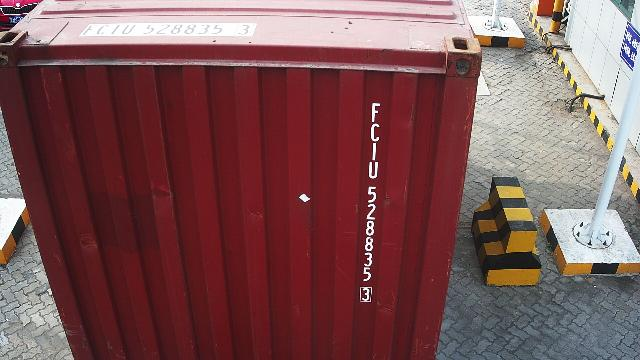2: (366, 204, 376, 221)
3: (360, 287, 372, 301), (363, 252, 372, 266)
5: (367, 185, 377, 202), (362, 267, 372, 281)
8: (364, 236, 374, 252), (366, 220, 374, 236)
C: (370, 122, 380, 142)
F: (372, 102, 381, 122)
I: (372, 143, 376, 161)
U: (368, 161, 378, 179)
